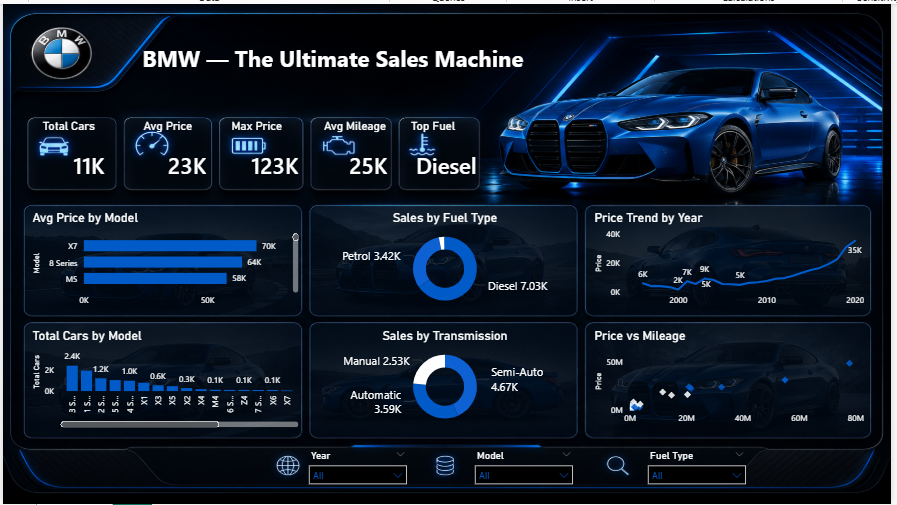

The dashboard page shown, as its layout file describes it:
{"tool":"powerbi","page":{"name":"Page 1","canvas":[1280,720],"ordinal":0},"visuals":[{"type":"cardVisual","title":"Total Cars","fields":{"Data":["bmw.Total Cars"]},"box":[15.1,166.3,161.3,109.2],"z":0},{"type":"cardVisual","title":"Avg Price","fields":{"Data":["bmw.Avg Price"]},"box":[152.9,166.3,169.7,109.2],"z":1},{"type":"cardVisual","title":"Max Price","fields":{"Data":["bmw.Max Price"]},"box":[277.2,166.3,178.1,109.2],"z":2},{"type":"cardVisual","title":"Avg Mileage","fields":{"Data":["bmw.Avg Mileage"]},"box":[430,166.3,152.9,109.2],"z":3},{"type":"cardVisual","title":"Top Fuel","fields":{"Data":["bmw.Top Fuel Type"]},"box":[527.5,166.3,184.8,109.2],"z":4},{"type":"clusteredBarChart","title":"Avg Price by Model","fields":{"Category":["bmw.model"],"Y":["Avg(bmw.price)"]},"box":[37,297.3,393.1,147.8],"z":5},{"type":"donutChart","title":"Sales by Fuel Type","fields":{"Category":["bmw.fuelType"],"Y":["CountNonNull(bmw.model)"]},"box":[455.2,297.3,362.8,147.8],"z":6},{"type":"donutChart","title":"Sales by Transmission","fields":{"Category":["bmw.transmission"],"Y":["CountNonNull(bmw.model)"]},"box":[455.2,467,362.8,147.8],"z":7},{"type":"lineChart","title":"Price Trend by Year","fields":{"Category":["bmw.year"],"Y":["Avg(bmw.price)"]},"box":[846.6,297.3,398.1,147.8],"z":8},{"type":"scatterChart","title":"Price vs Mileage","fields":{"X":["Sum(bmw.mileage)"],"Y":["Sum(bmw.price)"],"Series":["bmw.model"]},"box":[846.6,467,398.1,147.8],"z":9},{"type":"clusteredColumnChart","title":"Total Cars by Model","fields":{"Category":["bmw.model"],"Y":["CountNonNull(bmw.price)"]},"box":[37,467,393.1,147.8],"z":10},{"type":"textbox","box":[196.5,50.4,572.8,65.5],"z":11},{"type":"slicer","fields":{"Values":["bmw.year"]},"box":[430,636.6,161.3,60.5],"z":12},{"type":"slicer","fields":{"Values":["bmw.model"]},"box":[670.2,636.6,161.3,60.5],"z":13},{"type":"slicer","fields":{"Values":["bmw.fuelType"]},"box":[918.8,636.6,161.3,60.5],"z":14}]}

Visuals, with their boxes on the page's 1280x720 design canvas (x1, y1, x2, y2). These are canvas units, not pixel positions in the 897x505 screenshot, which may show the page scaled, cropped or inside an application window:
"Total Cars" cardVisual: (15,166,176,276)
"Avg Price" cardVisual: (153,166,323,276)
"Max Price" cardVisual: (277,166,455,276)
"Avg Mileage" cardVisual: (430,166,583,276)
"Top Fuel" cardVisual: (528,166,712,276)
"Avg Price by Model" clusteredBarChart: (37,297,430,445)
"Sales by Fuel Type" donutChart: (455,297,818,445)
"Sales by Transmission" donutChart: (455,467,818,615)
"Price Trend by Year" lineChart: (847,297,1245,445)
"Price vs Mileage" scatterChart: (847,467,1245,615)
"Total Cars by Model" clusteredColumnChart: (37,467,430,615)
textbox: (196,50,769,116)
slicer - bmw.year: (430,637,591,697)
slicer - bmw.model: (670,637,832,697)
slicer - bmw.fuelType: (919,637,1080,697)
